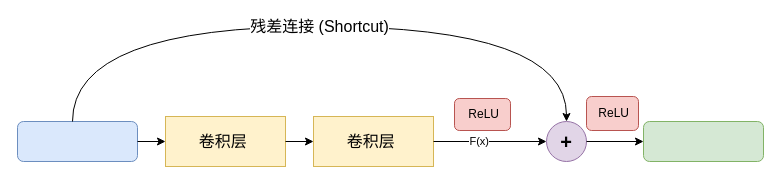
The diagram is 781 pixels wide and 184 high, and some of its shapes have lost their labels. Each missing label, with the centre of its shape:
输入 x: point (77, 141)
输出 F(x) + x: point (703, 141)
